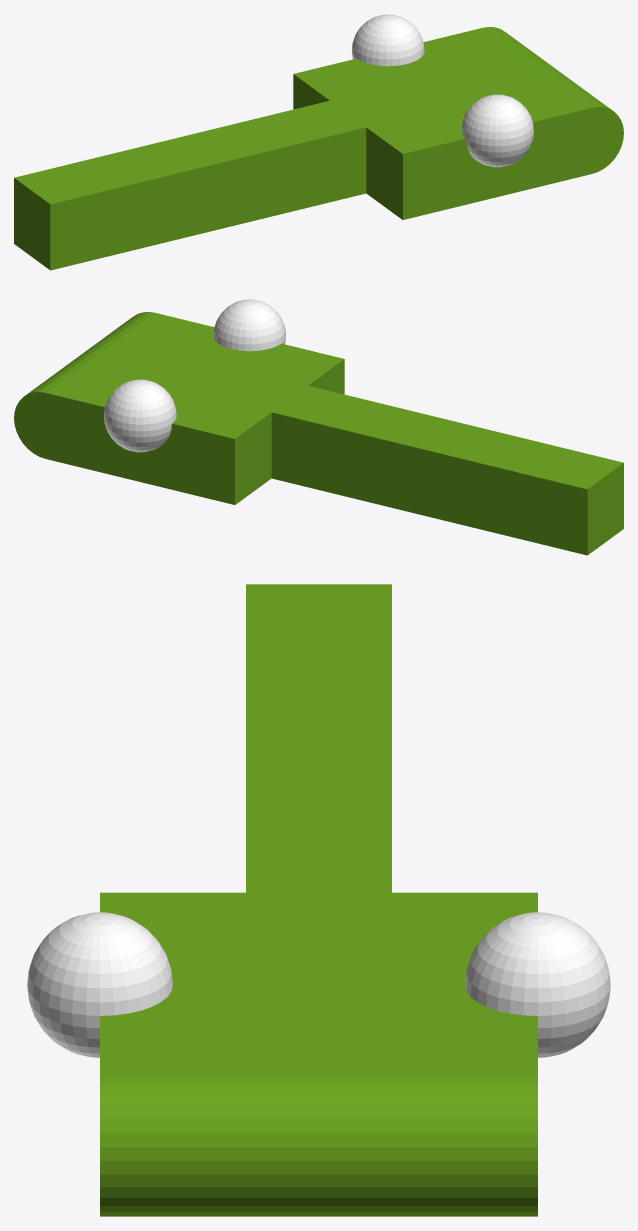
Rendered from GenjiHead.glb.
3 renders of one model, top to bottom at view 1: azimuth 30°, elevation 25°; view 2: azimuth 150°, elevation 25°; view 3: azimuth 270°, elevation 25°, orthographic. The views are drawn at different scales.
Parts seen in each view (by area): view 1: Cube.001, Cube, Sphere, Cylinder, Sphere.001; view 2: Cube.001, Cube, Sphere.001, Cylinder, Sphere; view 3: Cube, Cylinder, Cube.001, Sphere, Sphere.001.
Boxes of the visible parts, box(x1,y1,x2,y2) form: Cube.001: box(14, 100, 366, 270); Cube: box(293, 28, 592, 219); Sphere: box(461, 94, 533, 167); Cylinder: box(483, 27, 623, 174); Sphere.001: box(352, 14, 424, 66); Cube.001: box(271, 385, 623, 555); Cube: box(45, 313, 344, 504); Sphere.001: box(104, 379, 176, 452); Cylinder: box(14, 312, 154, 459); Sphere: box(213, 299, 285, 351); Cube: box(100, 892, 537, 1077); Cylinder: box(100, 1077, 537, 1216); Cube.001: box(246, 584, 391, 892); Sphere: box(27, 912, 172, 1057); Sphere.001: box(465, 912, 610, 1057).
Bounding box in the file's own units: 17 × 3 × 8.
